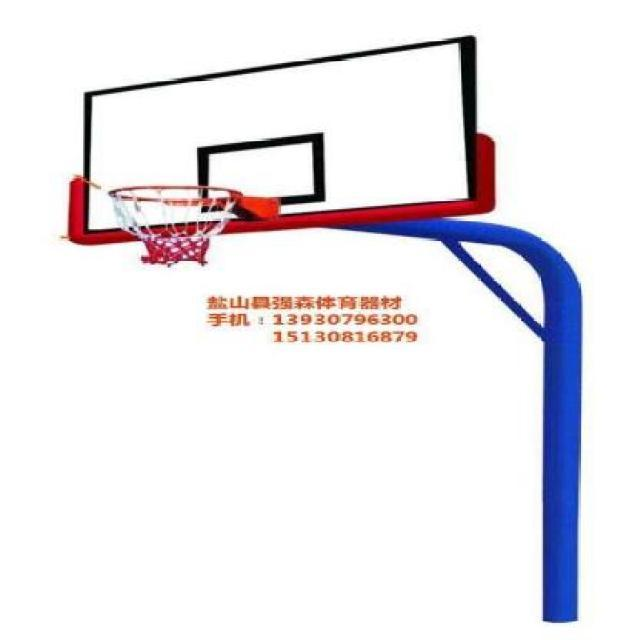rim: (109, 183, 245, 265)
